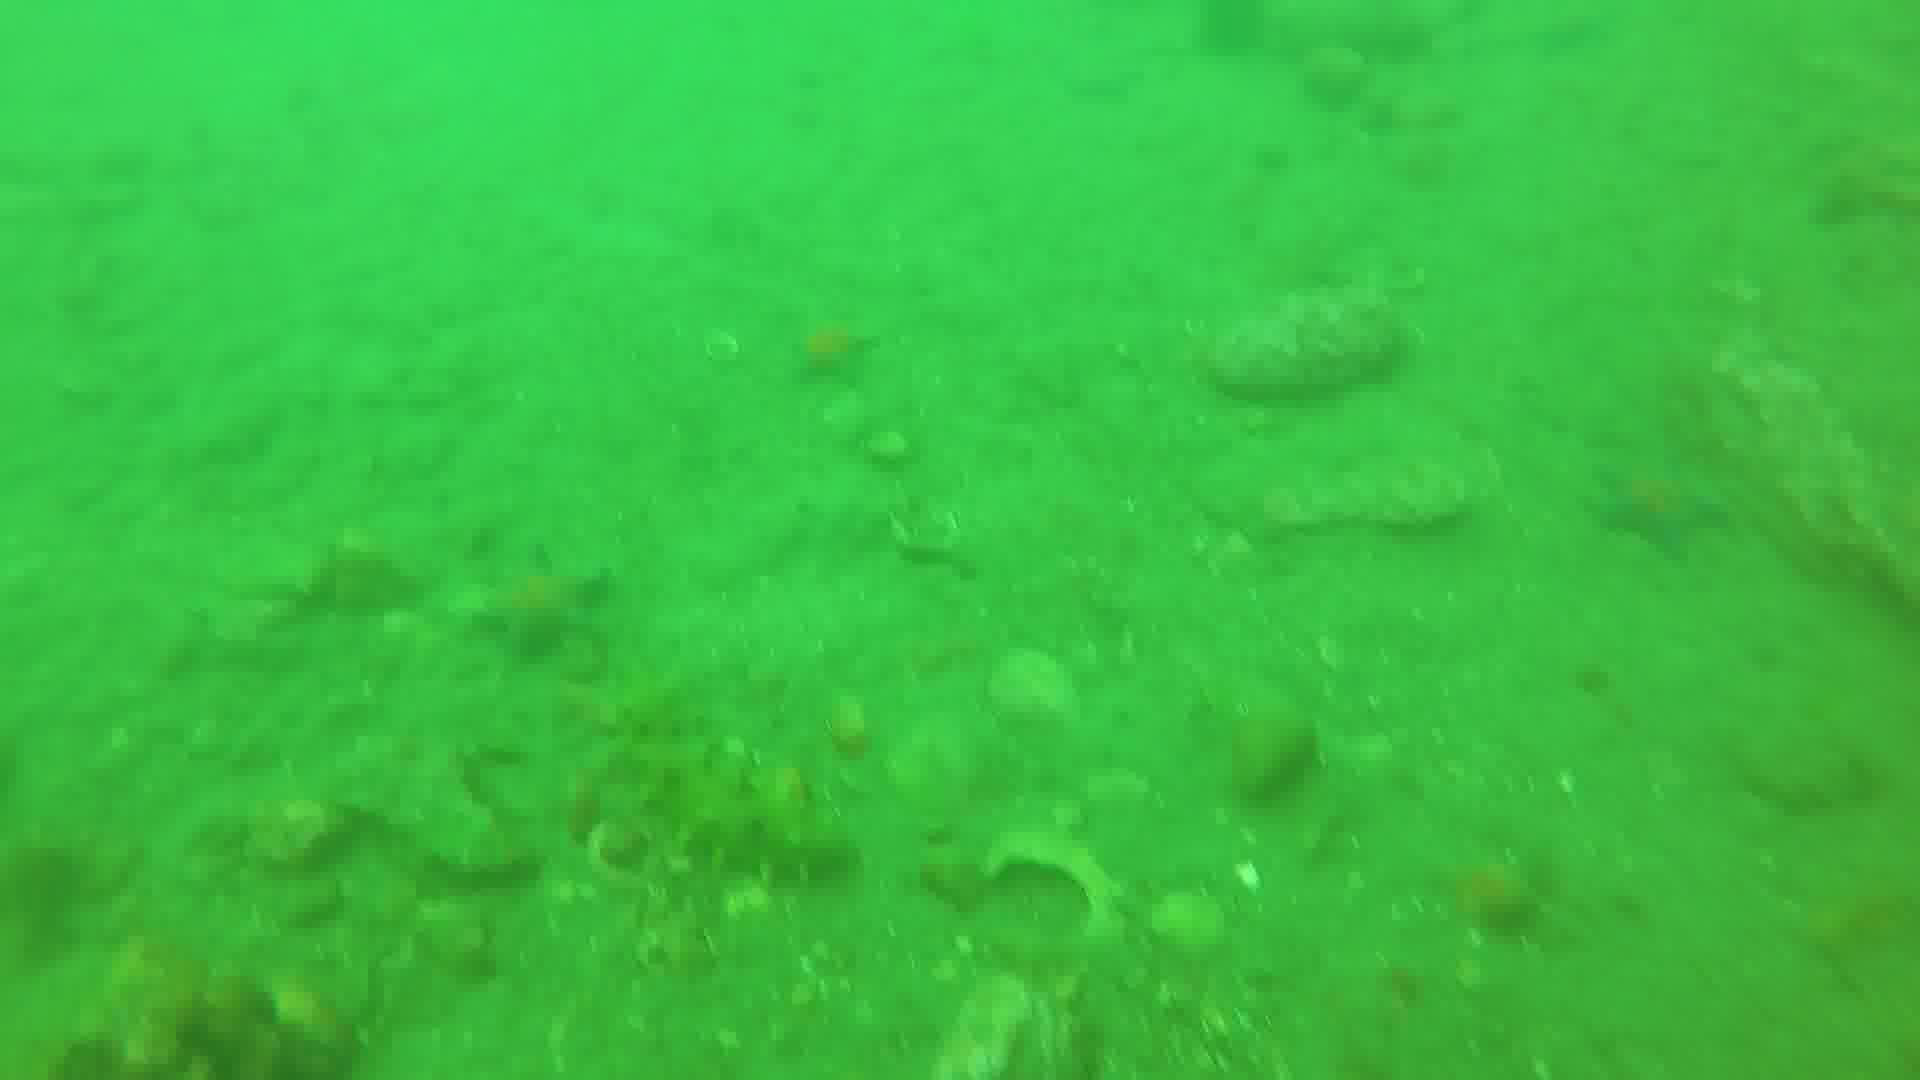holothurian: (616, 678, 853, 874)
starfish: (1439, 839, 1569, 953), (480, 549, 622, 647), (1597, 458, 1724, 558), (795, 319, 884, 385)
